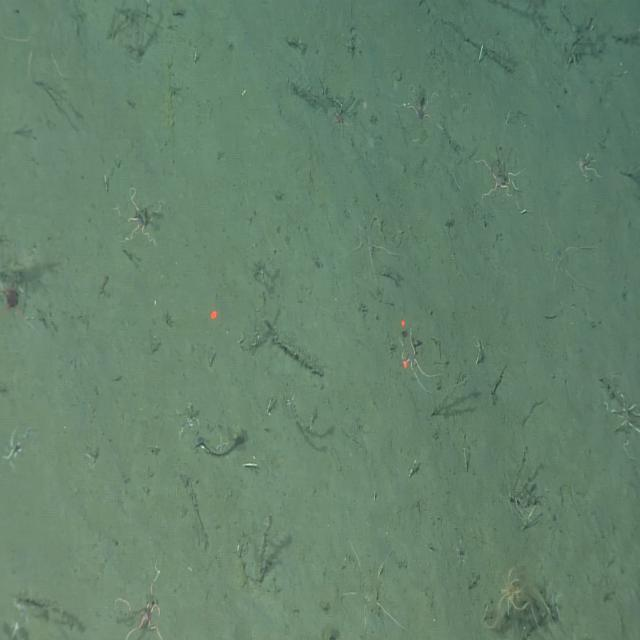Brittle Star: (337, 536, 408, 638), (110, 557, 168, 640), (471, 140, 530, 214), (394, 78, 446, 145), (117, 181, 165, 253), (0, 267, 38, 339), (326, 89, 359, 143)
Not Brittle Star: (483, 557, 542, 634)
